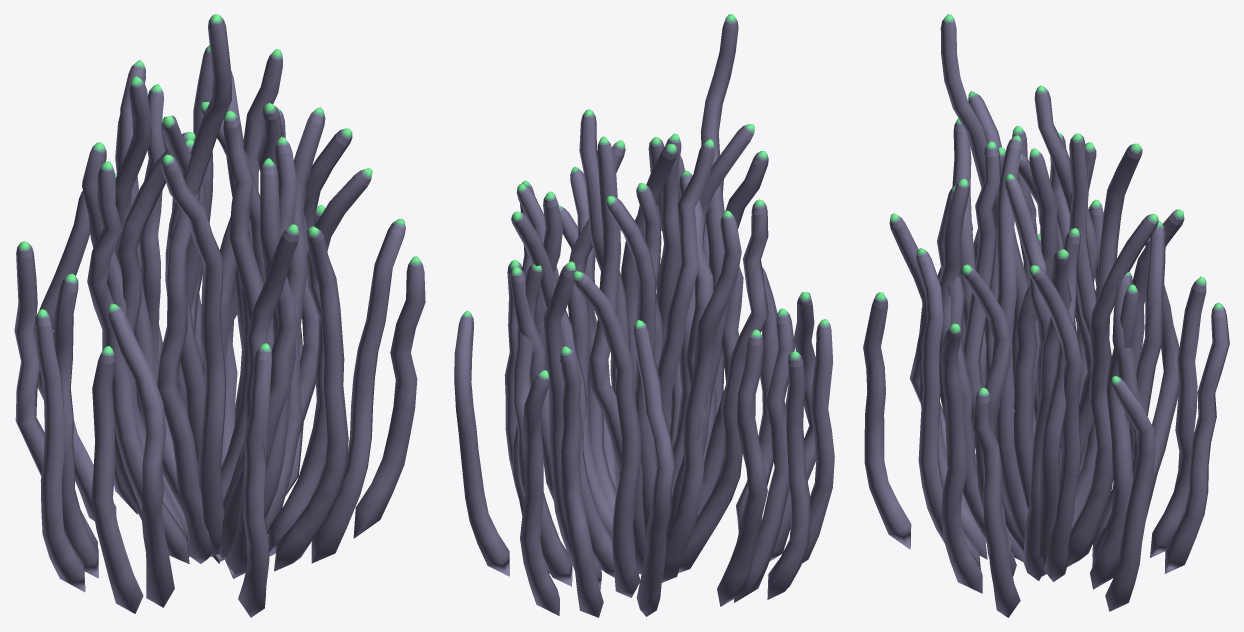
The model's file is Torch02-transformed.glb.
3 views of the same model, side by side, from view 1: azimuth 30°, elevation 25°; view 2: azimuth 150°, elevation 25°; view 3: azimuth 270°, elevation 25° (orthographic). The views are drawn at different scales.
Parts seen in each view (by area): view 1: Torch02; view 2: Torch02; view 3: Torch02.
Part boxes in pixels (x1=…): Torch02: x1=14, y1=14, x2=425, y2=617; Torch02: x1=454, y1=14, x2=834, y2=617; Torch02: x1=863, y1=14, x2=1229, y2=617.
Size of the model in its own units: 2.55 by 4.08 by 2.55.
Materials: 1 (1 with a texture image).
